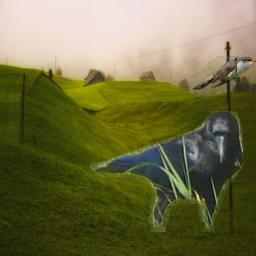Crow: (90, 111, 243, 232)
Cuckoo: (191, 56, 256, 90)
